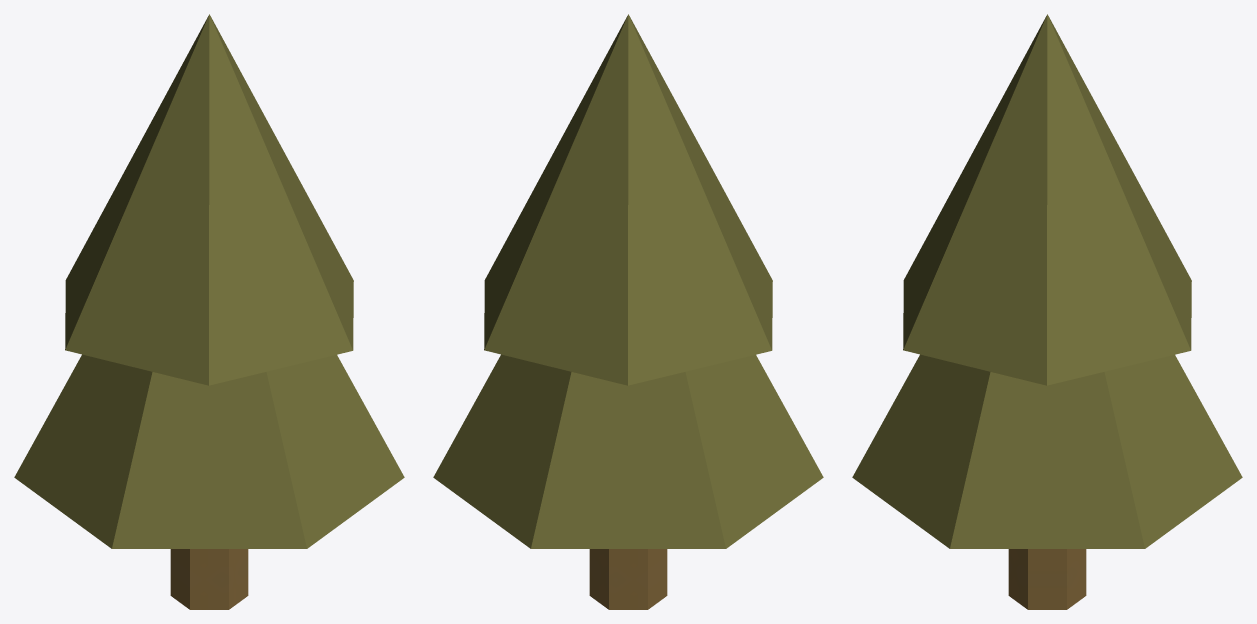
Rendered from tree.glb.
The picture shows the model from 3 angles, left to right: view 1: azimuth 30°, elevation 25°; view 2: azimuth 150°, elevation 25°; view 3: azimuth 270°, elevation 25°; orthographic projection.
Visible parts, largest first — view 1: Cylinder.044_Material.001_0; view 2: Cylinder.044_Material.001_0; view 3: Cylinder.044_Material.001_0.
Part boxes in pixels (<box>): Cylinder.044_Material.001_0: <box>14,14,404,609</box>; Cylinder.044_Material.001_0: <box>433,14,823,609</box>; Cylinder.044_Material.001_0: <box>852,14,1242,609</box>.
Bounding box in the file's own units: 0.3175 × 0.6026 × 0.3666.
1 material, 1 textured.
